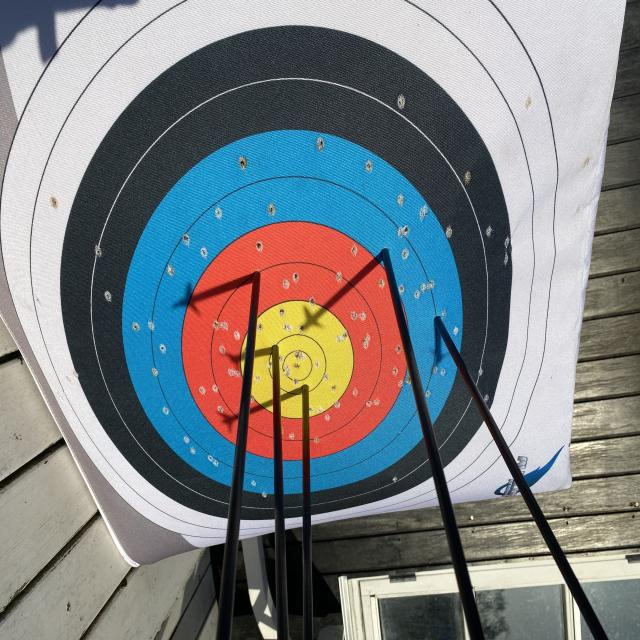Arrow_Blue: (368, 232, 398, 266), (422, 300, 448, 338)
Arrow_Red: (240, 262, 276, 294)
Arrow_Yellow: (296, 369, 335, 420), (264, 328, 286, 358)
